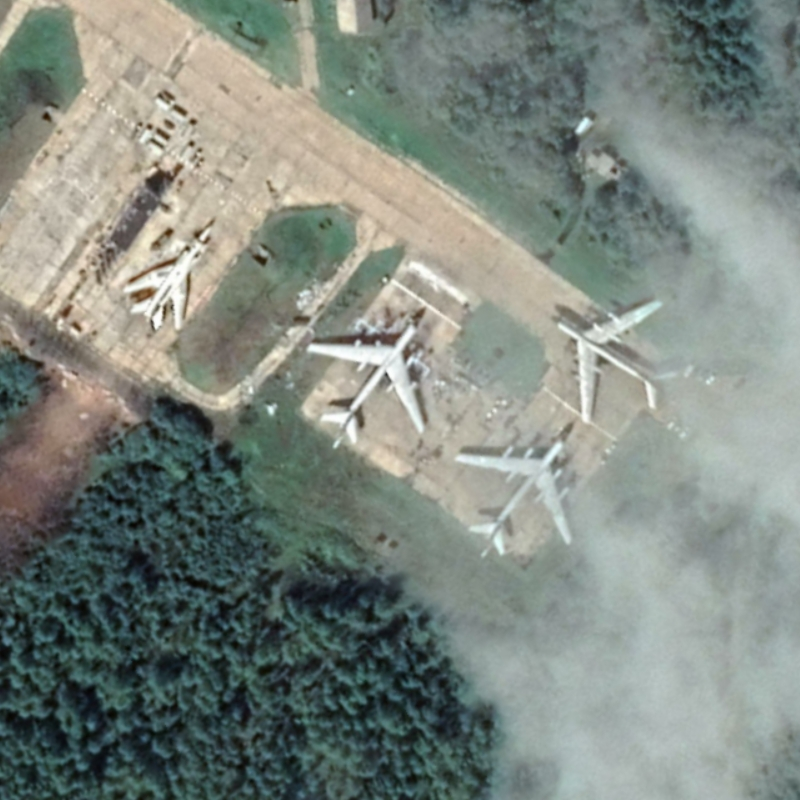A12: (120, 216, 219, 333)
A17: (299, 306, 431, 454), (548, 294, 682, 427), (450, 429, 577, 563)
